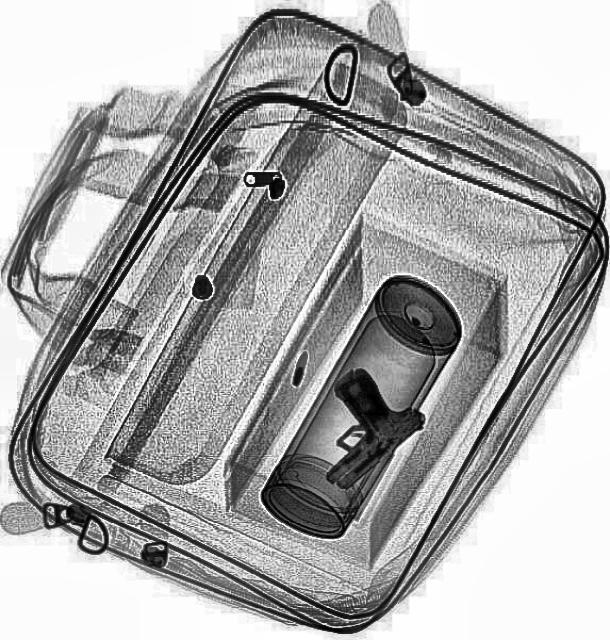Gun: (280, 353, 428, 492)
